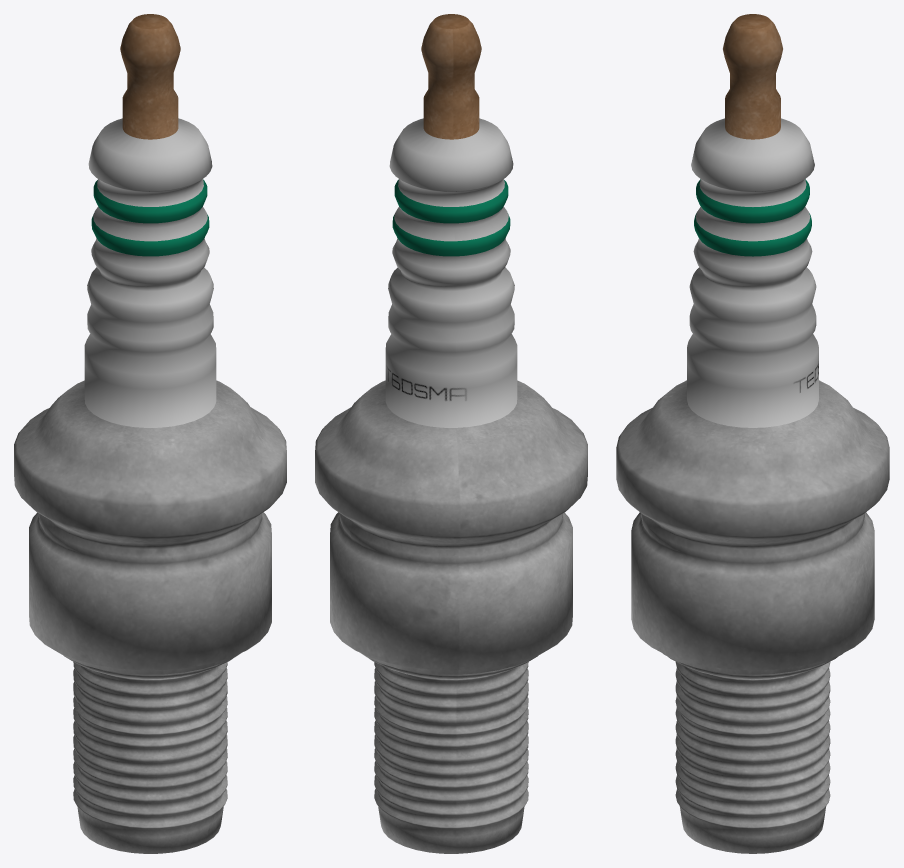
Rendered from Bujia.fbx.
3 renders of one model, left to right at view 1: azimuth 30°, elevation 25°; view 2: azimuth 150°, elevation 25°; view 3: azimuth 270°, elevation 25°, orthographic.
Visible parts, largest first — view 1: Bujia; view 2: Bujia; view 3: Bujia.
Part boxes in pixels (x1=…): Bujia: x1=14, y1=14, x2=286, y2=853; Bujia: x1=315, y1=14, x2=587, y2=853; Bujia: x1=616, y1=14, x2=889, y2=853.
Size of the model in its own units: 6.64 by 21.5 by 6.64.
